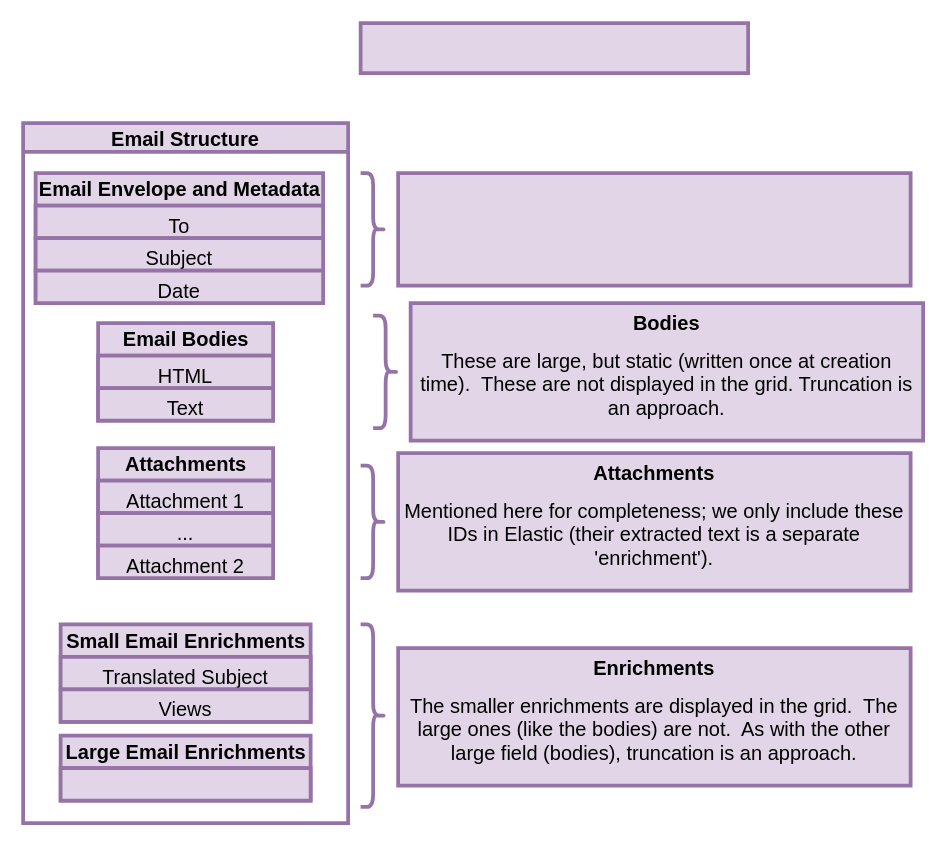
The diagram is 946 pixels wide and 846 high, and some of its shapes have lost their labels. Each missing label, with the centre of its shape:
"Attachment Extracts" goes at pixel 185 784.
"Email Structure Overview" goes at pixel 553 47.
"Metadata These are generally small, and we always want to display them." goes at pixel 654 229.
